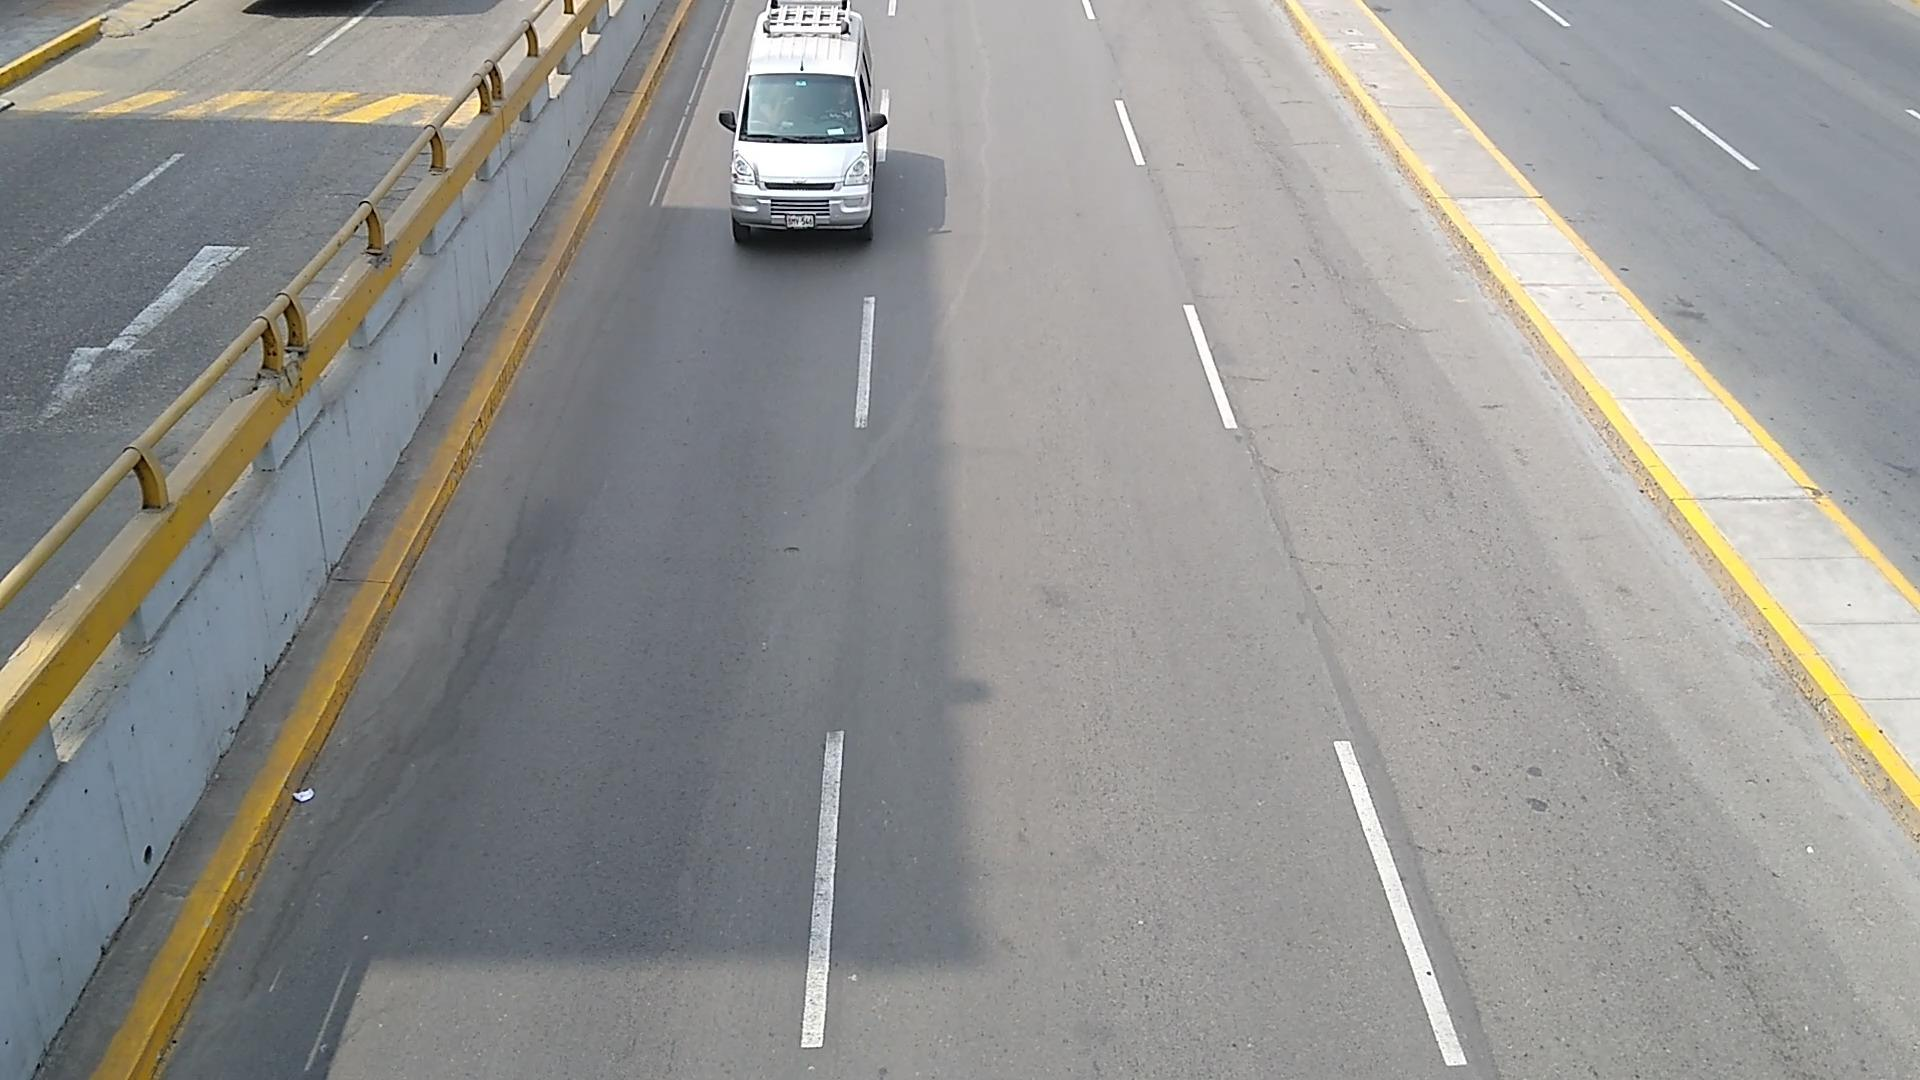minivan: (716, 0, 889, 244)
